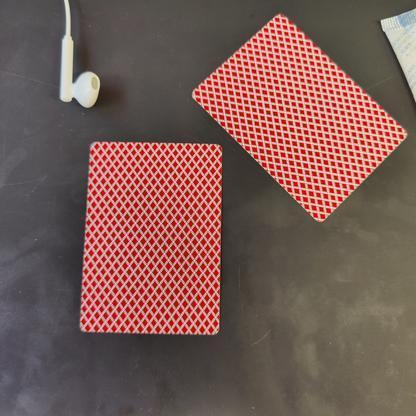card: (226, 4, 412, 217), (71, 132, 229, 343)
